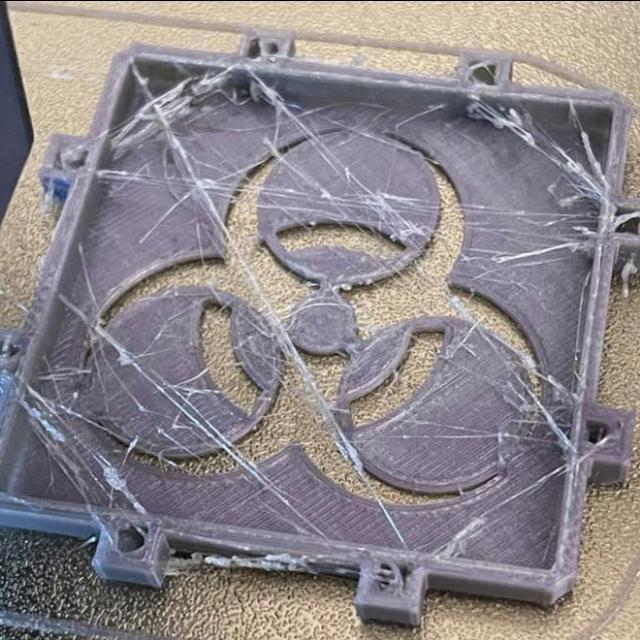Stringing: (123, 62, 422, 549), (54, 275, 341, 541), (90, 160, 405, 245), (11, 366, 158, 512), (232, 68, 352, 194), (99, 60, 239, 148), (516, 374, 569, 448), (545, 123, 597, 197), (466, 99, 540, 140)
